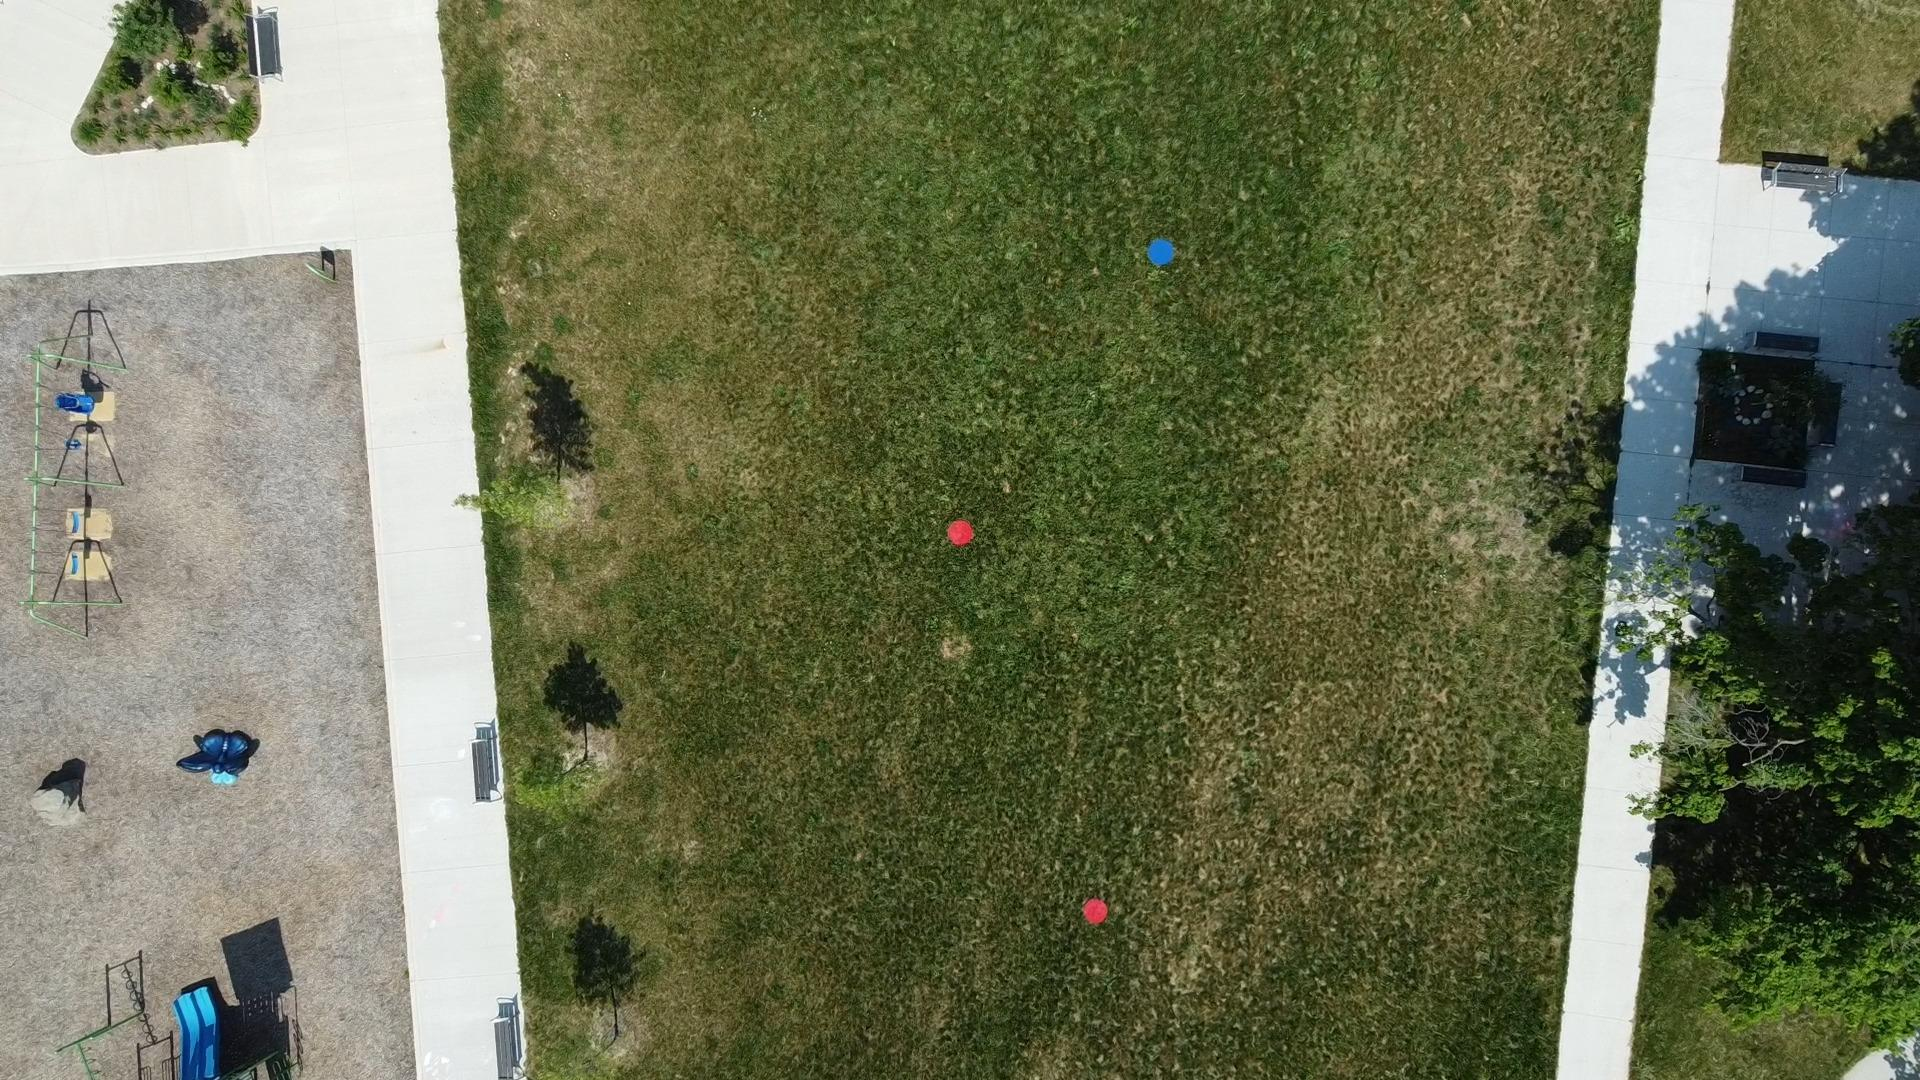Blue: (1146, 237, 1176, 268)
Red: (1081, 895, 1110, 926), (947, 518, 976, 547)
